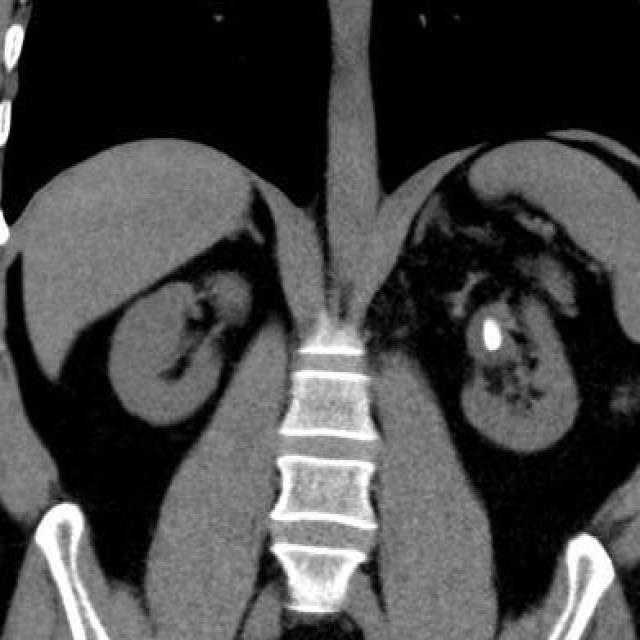Tas_Var: (480, 314, 505, 358)
